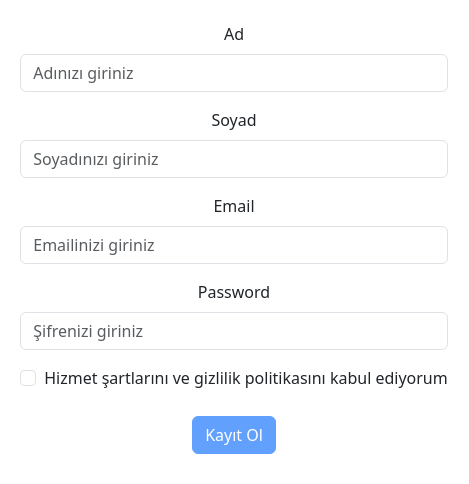
Kayıt Sayfası › Olumsuz Testler › Soyad girişi yanlış mu?
The width and height of the screenshot is (469, 484).
Type "Ya" into the field with test id "input-soyad" at (234, 159), box 20,140 -> 448,178
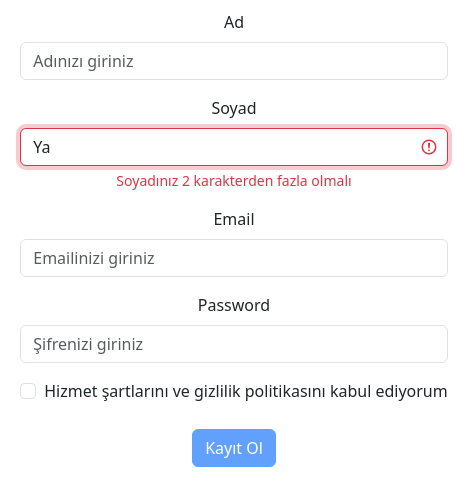
Check: the text "Soyadınız 2 karakterden fazla olmalı" is shown, box 116,170 -> 352,190
